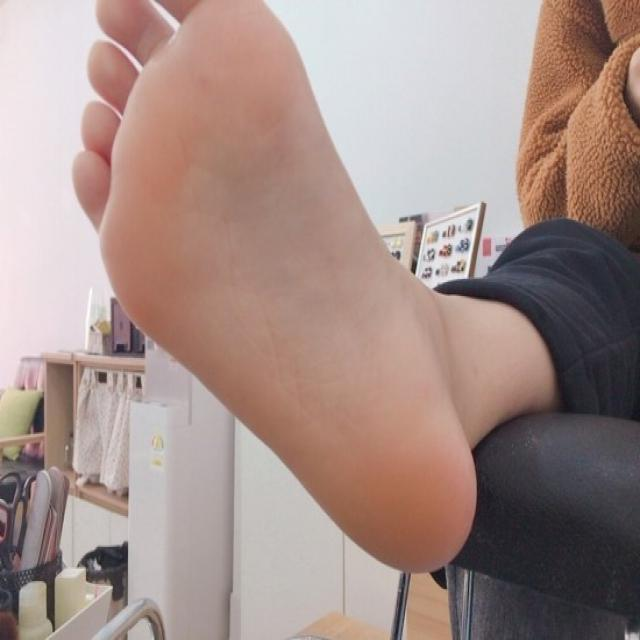No_Shoes: (51, 9, 494, 570)
